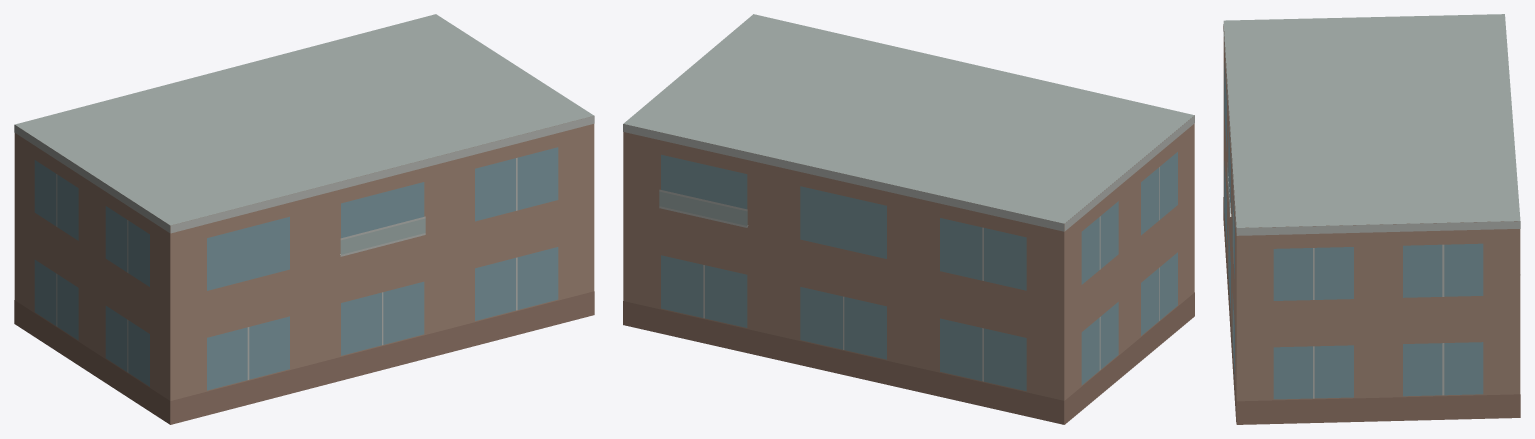
File: survey-upis-33018837.glb
3 renders of one model, left to right at view 1: azimuth 30°, elevation 25°; view 2: azimuth 150°, elevation 25°; view 3: azimuth 270°, elevation 25°, orthographic. The views are drawn at different scales.
Visible parts, largest first — view 1: survey-upis-33018837.tmp; view 2: survey-upis-33018837.tmp; view 3: survey-upis-33018837.tmp.
Boxes of the visible parts, left/top/right/bottom form: survey-upis-33018837.tmp: left=14, top=14, right=594, bottom=424; survey-upis-33018837.tmp: left=623, top=14, right=1194, bottom=424; survey-upis-33018837.tmp: left=1223, top=14, right=1520, bottom=424.
Size of the model in its own units: 14.23 by 6.1 by 8.35.
